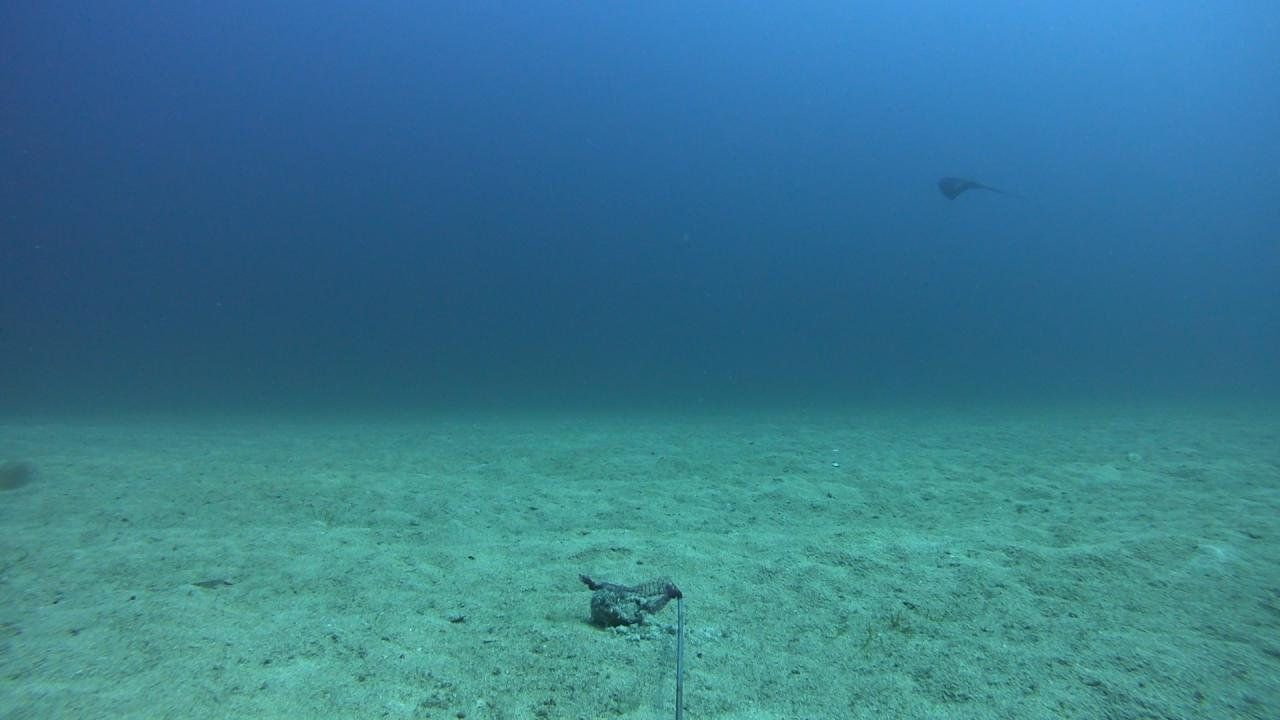dasyatis: (936, 174, 1003, 200)
